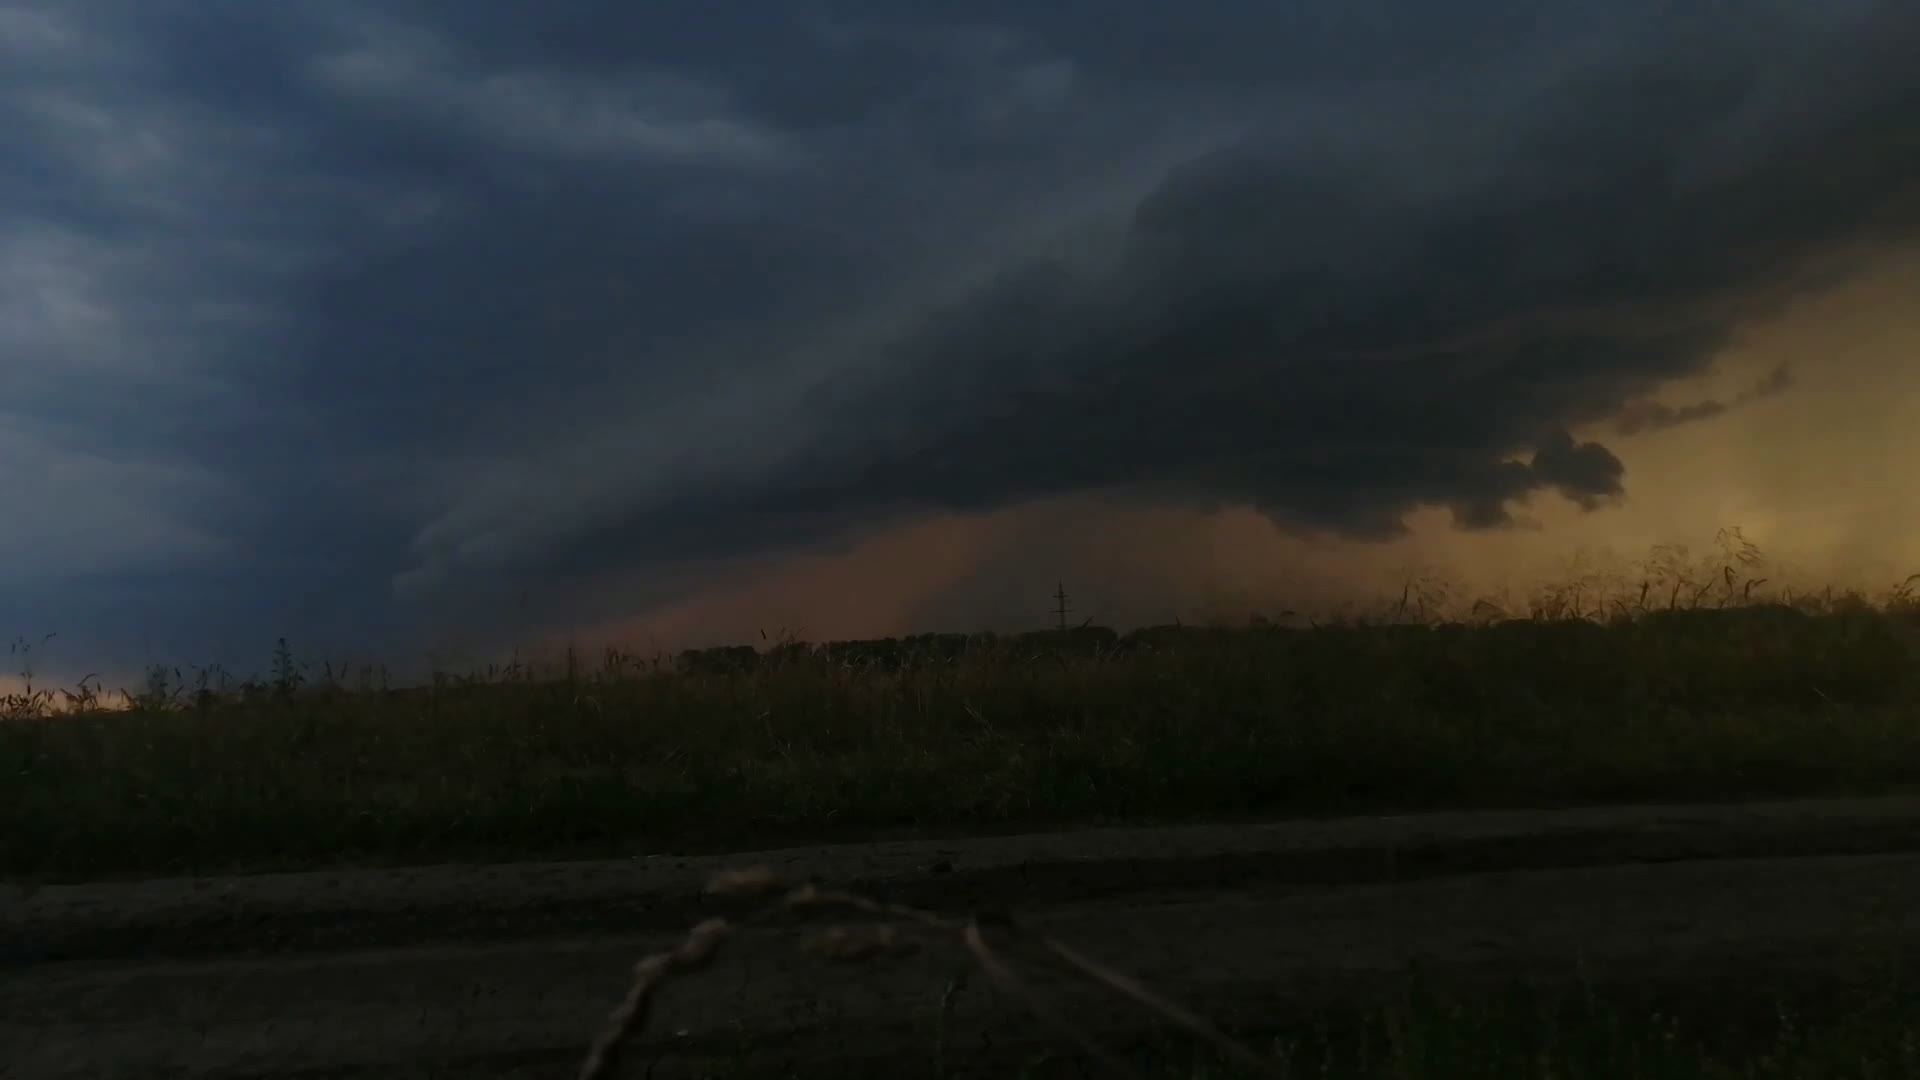FFD: (7, 601, 823, 695)
RFD: (893, 504, 1441, 626)
mesocyclone: (220, 59, 1919, 551)
striations: (1207, 243, 1874, 465)
wall cloud: (386, 61, 1913, 597)
